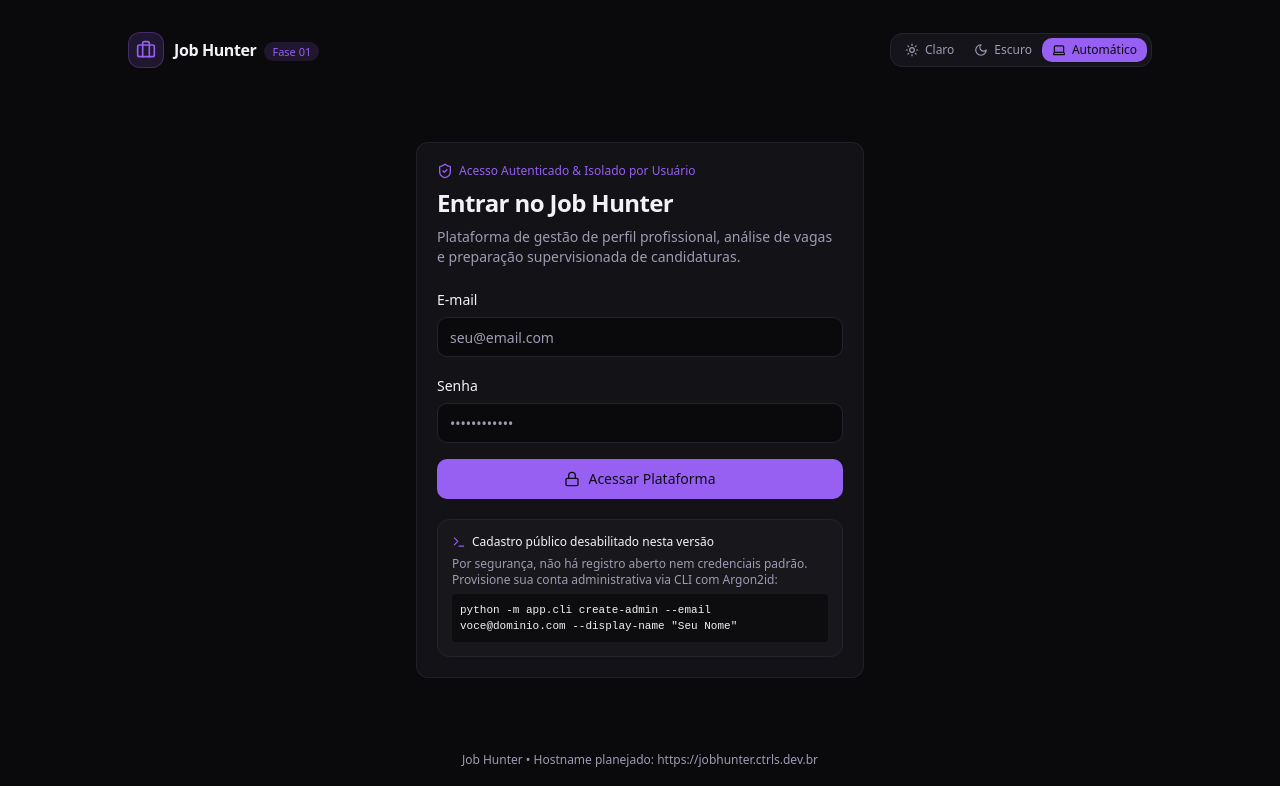
Test: Job Hunter Frontend - Fase 01.1 › autentica o usuário, renderiza o dashboard sem botão de seed público e edita o Perfil
The width and height of the screenshot is (1280, 786).
Type "usuario@example.com" into the field labelled "E-mail". click: {"x": 640, "y": 337}
box: left=437, top=317, right=843, bottom=357
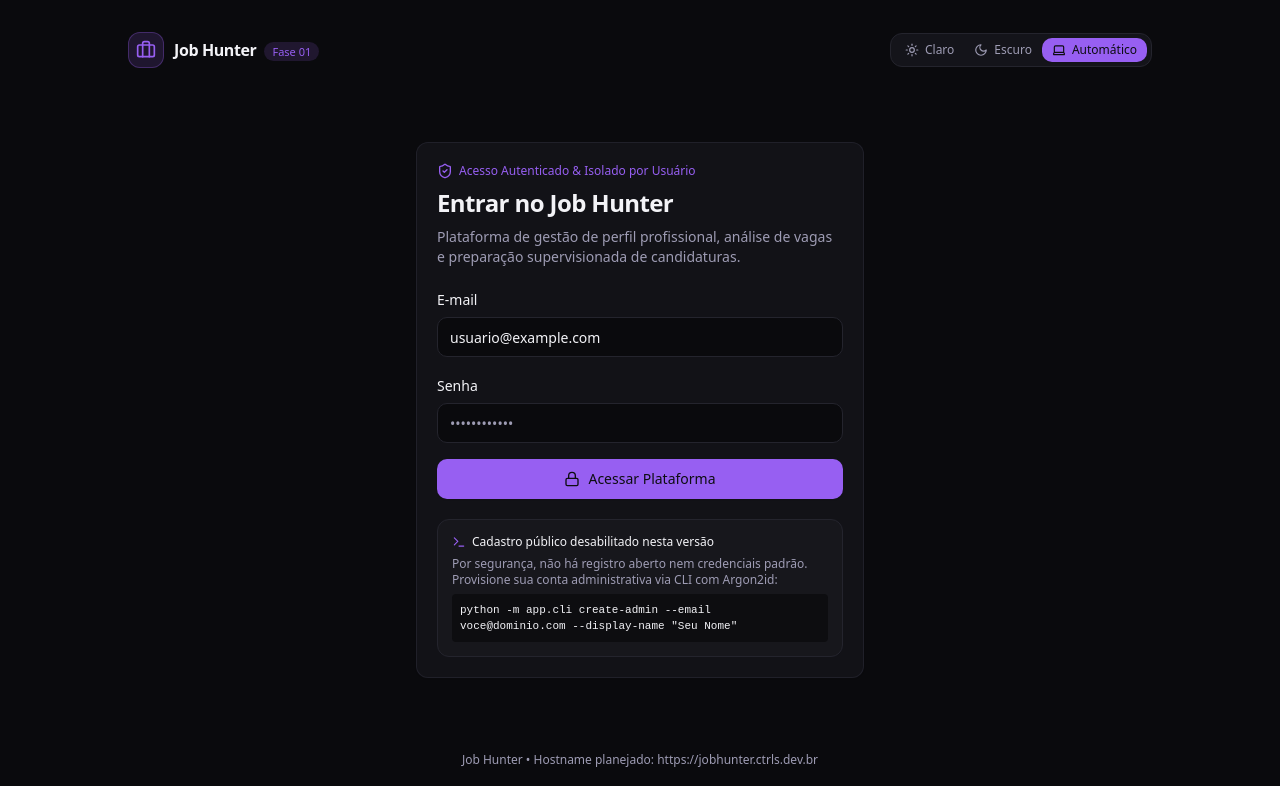
Type "StrongPassword!2026" into the password field labelled "Senha". click: {"x": 640, "y": 423}
box: left=437, top=403, right=843, bottom=443
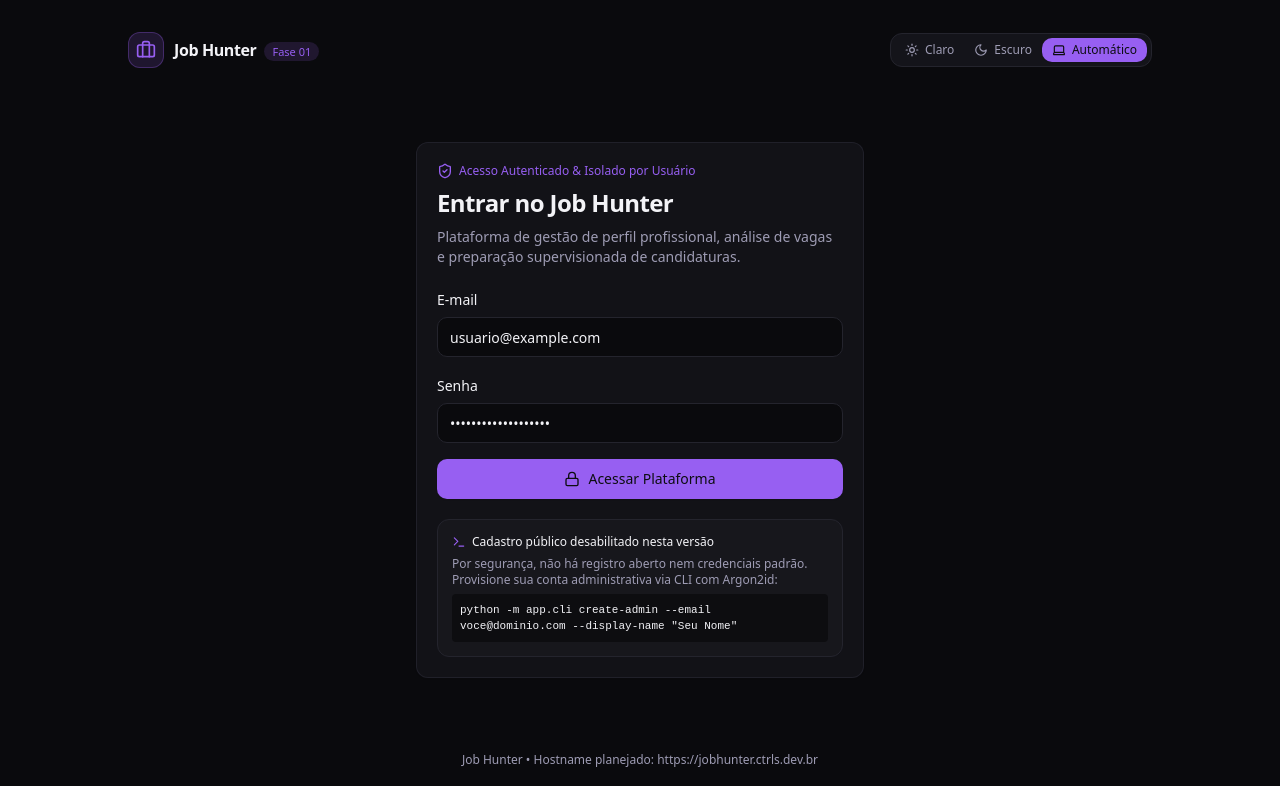
Click the button "Acessar Plataforma". click: {"x": 640, "y": 479}
box: left=437, top=459, right=843, bottom=499
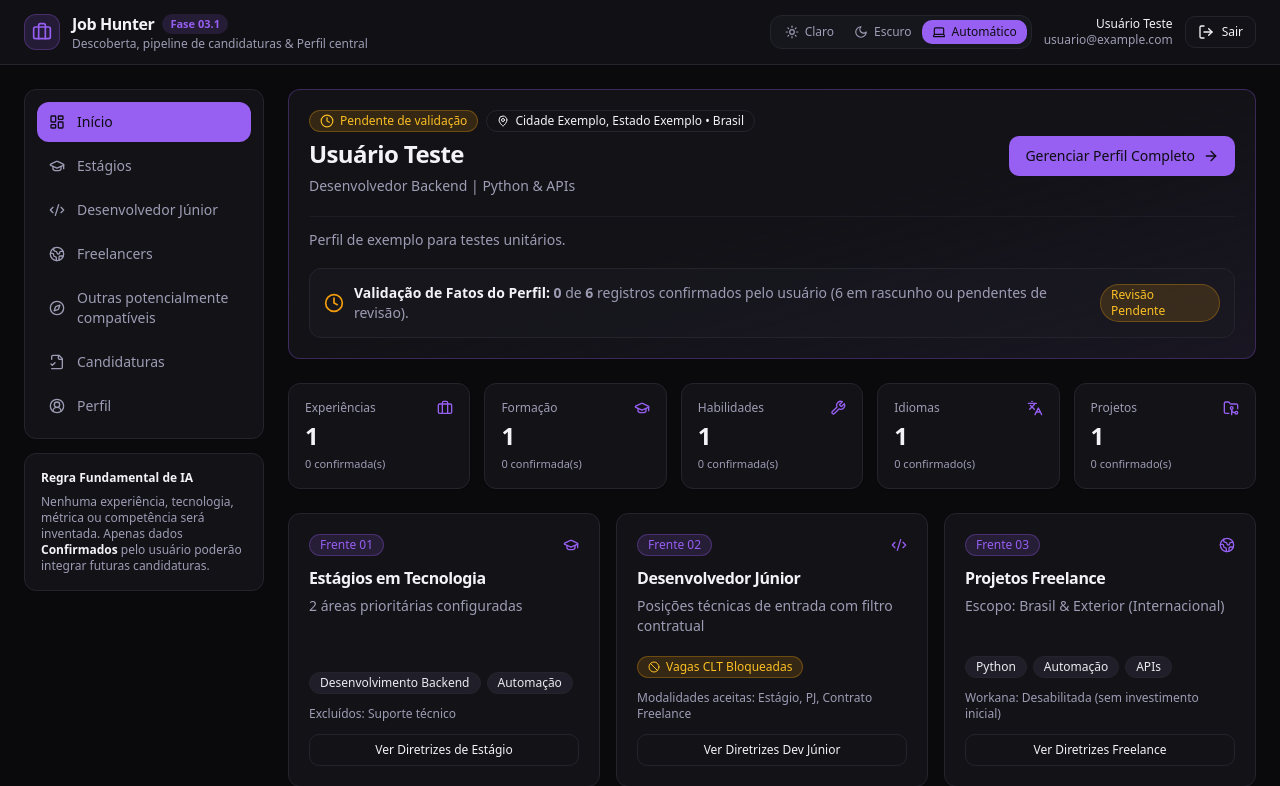
expect the text "Cidade Exemplo, Estado Exemplo • Brasil" is shown: met, box left=486, top=110, right=755, bottom=132
expect the text "Vagas CLT Bloqueadas" is shown: met, box left=637, top=656, right=803, bottom=678
// Navega para a tela de Perfil Profissional
Click the button "Gerenciar Perfil Completo". click: {"x": 1122, "y": 156}
box: left=1009, top=136, right=1235, bottom=176
(page scrolled)
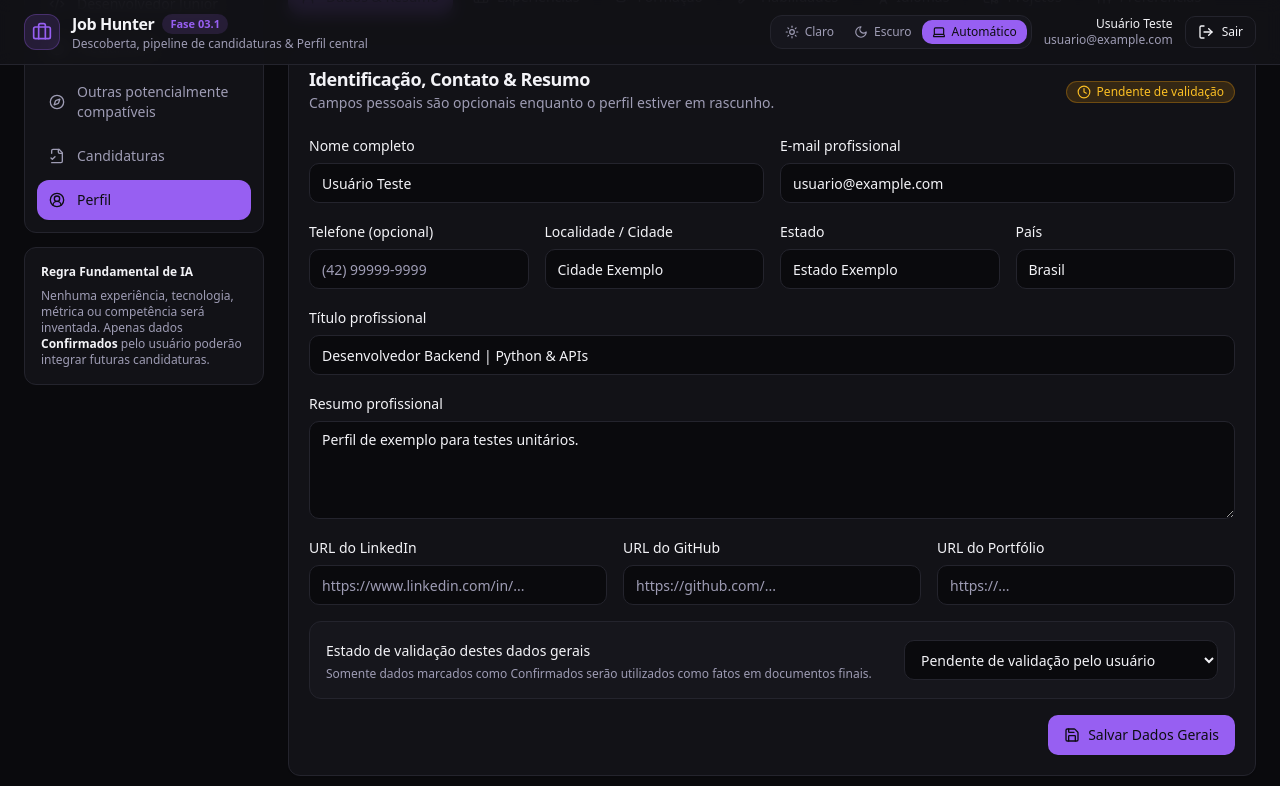
expect the heading "Identificação, Contato & Resumo" is shown: met, box left=309, top=67, right=590, bottom=91
// Salva os dados gerais do perfil
Click the button "Salvar Dados Gerais". click: {"x": 1142, "y": 735}
box: left=1048, top=715, right=1235, bottom=755
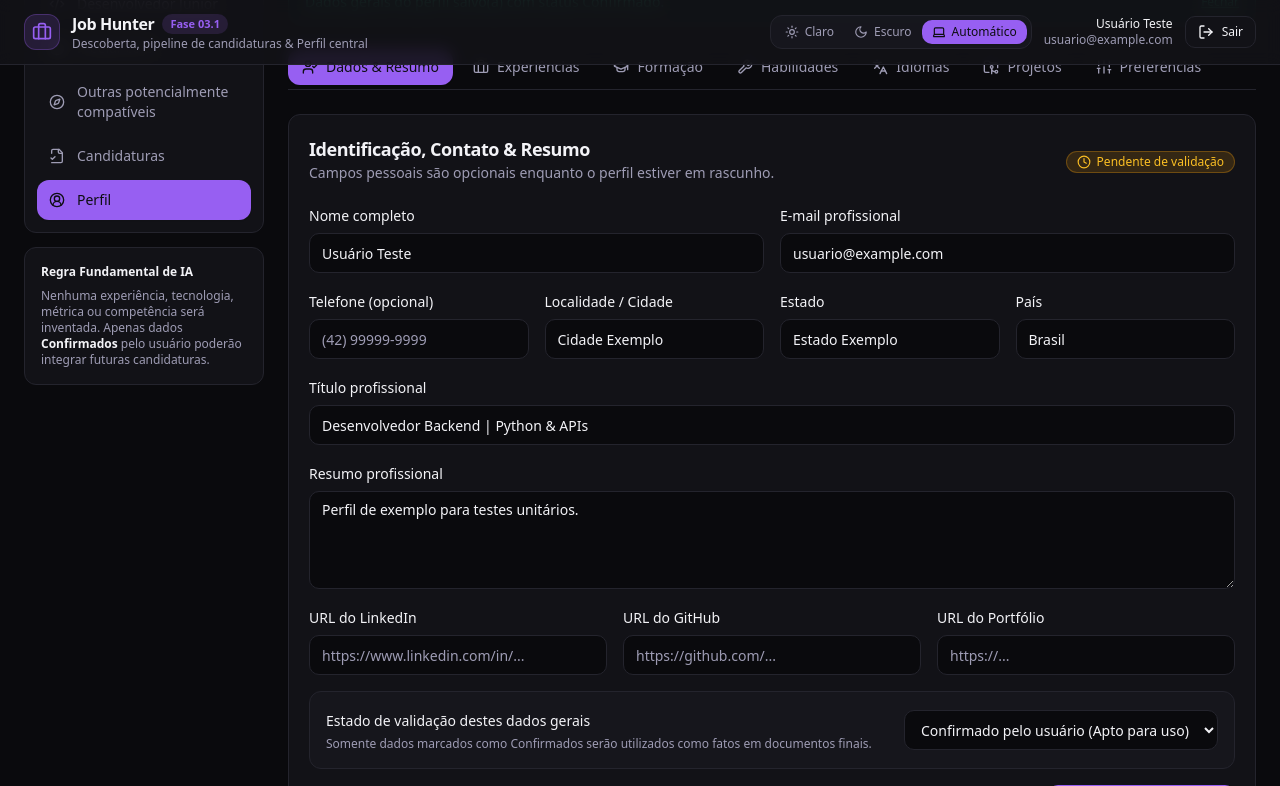
// Navega para a sub-aba de Experiências
Click the tab "Experiências". click: {"x": 526, "y": 67}
box: left=459, top=49, right=593, bottom=85
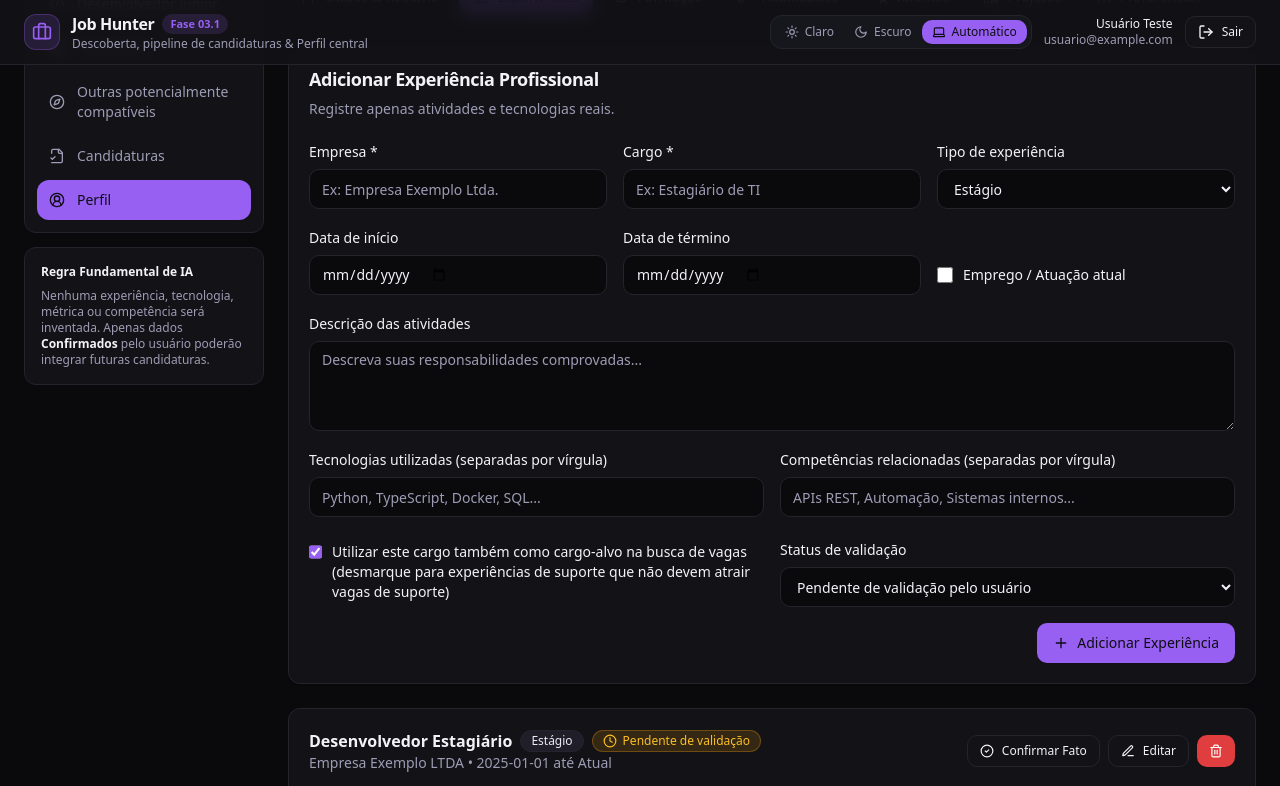
expect the text "Empresa Exemplo LTDA • 2025-01-01 até Atual" is shown: met, box left=309, top=753, right=612, bottom=772
